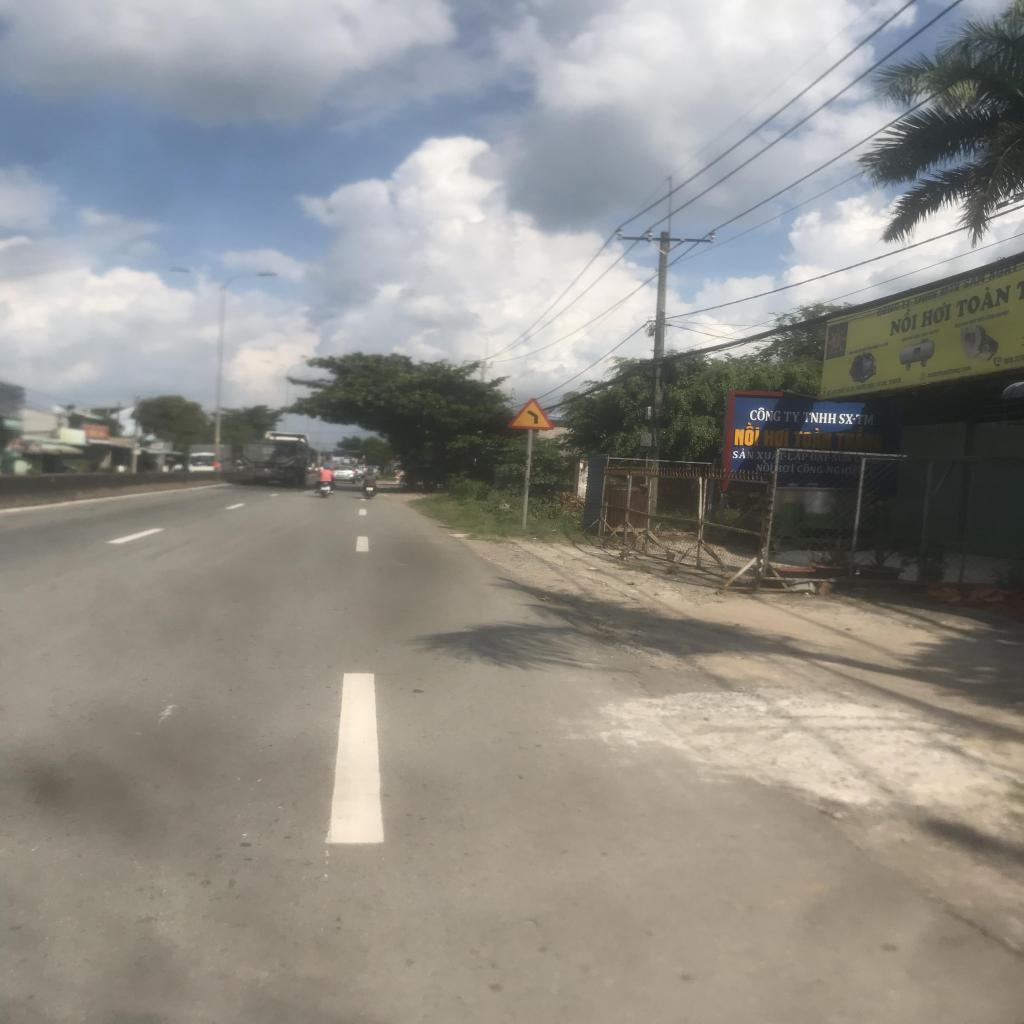cho_ngoat_nguy_hiem_ben_trai: (507, 397, 557, 431)
